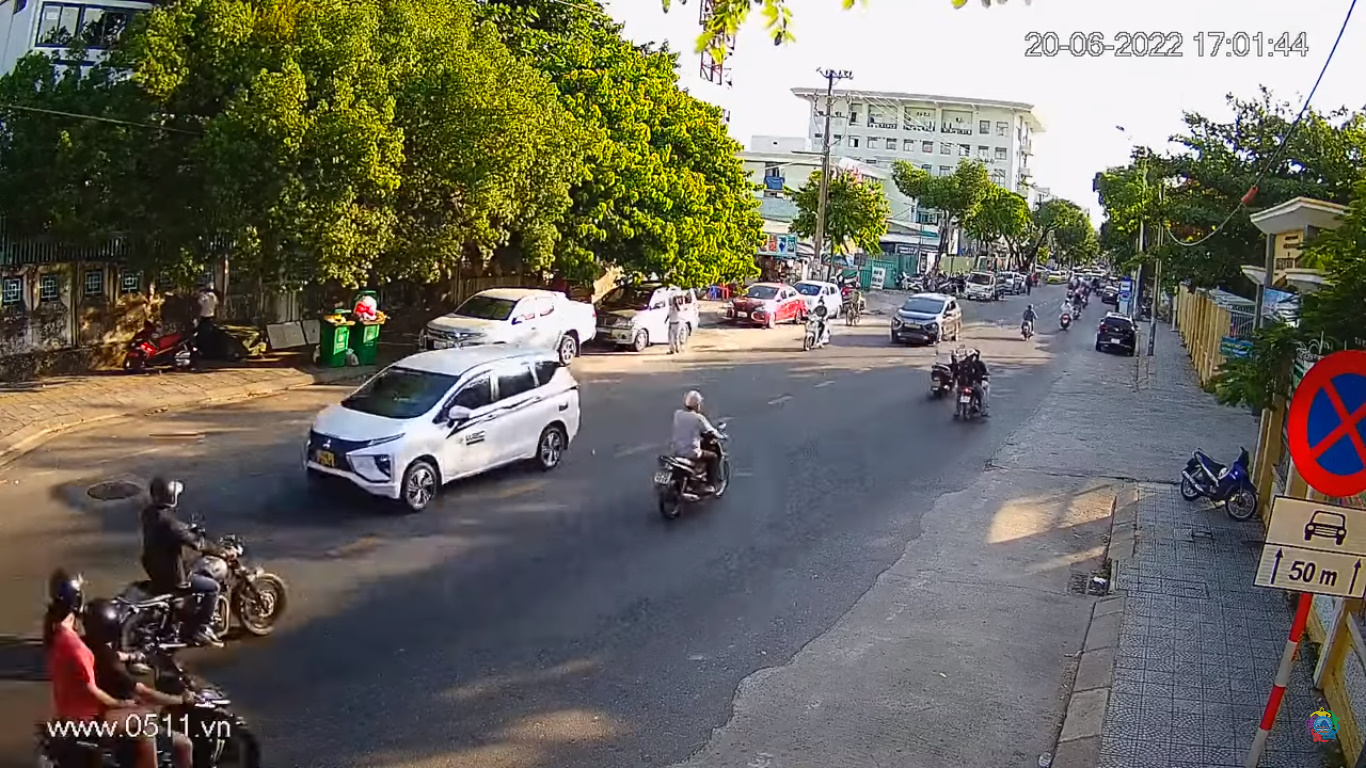car: (304, 341, 583, 511)
